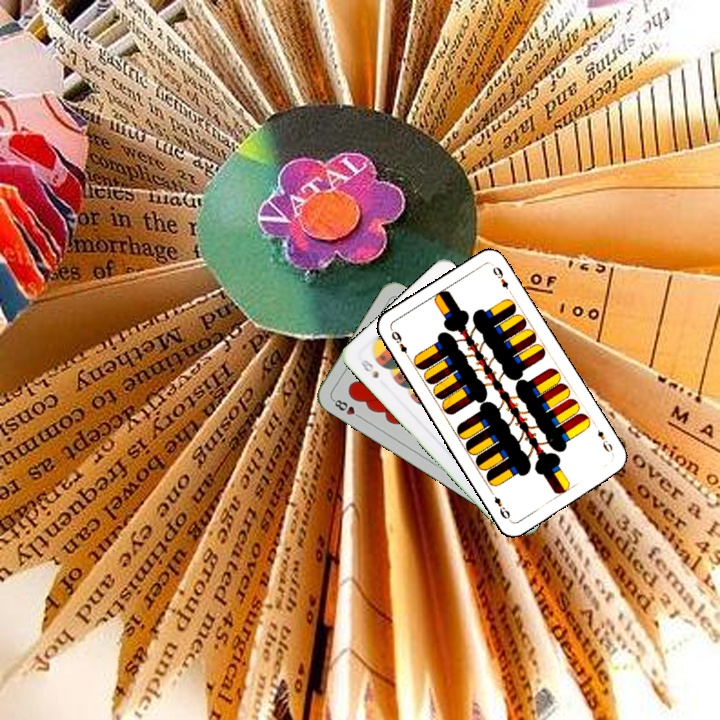E9: (590, 420, 616, 457), (387, 327, 413, 363)
H8: (329, 395, 365, 421)
S8: (356, 355, 381, 381)
